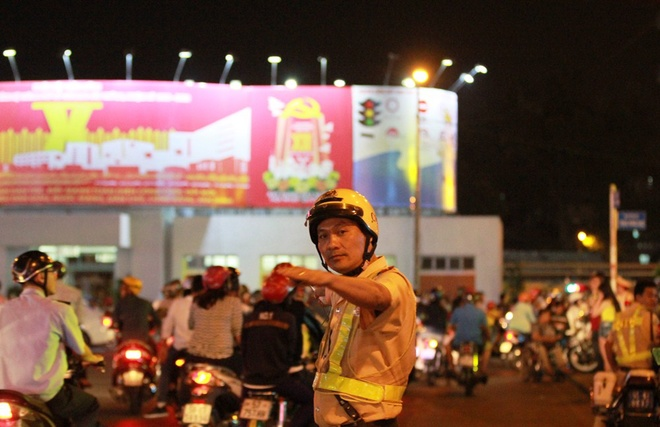police: (285, 192, 410, 419)
